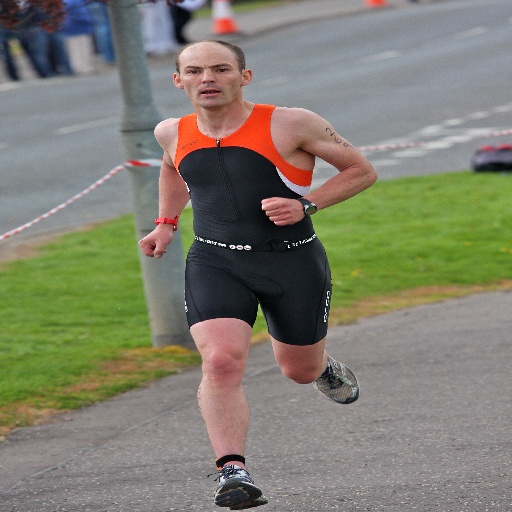hand: (254, 191, 316, 225), (135, 227, 175, 260)
